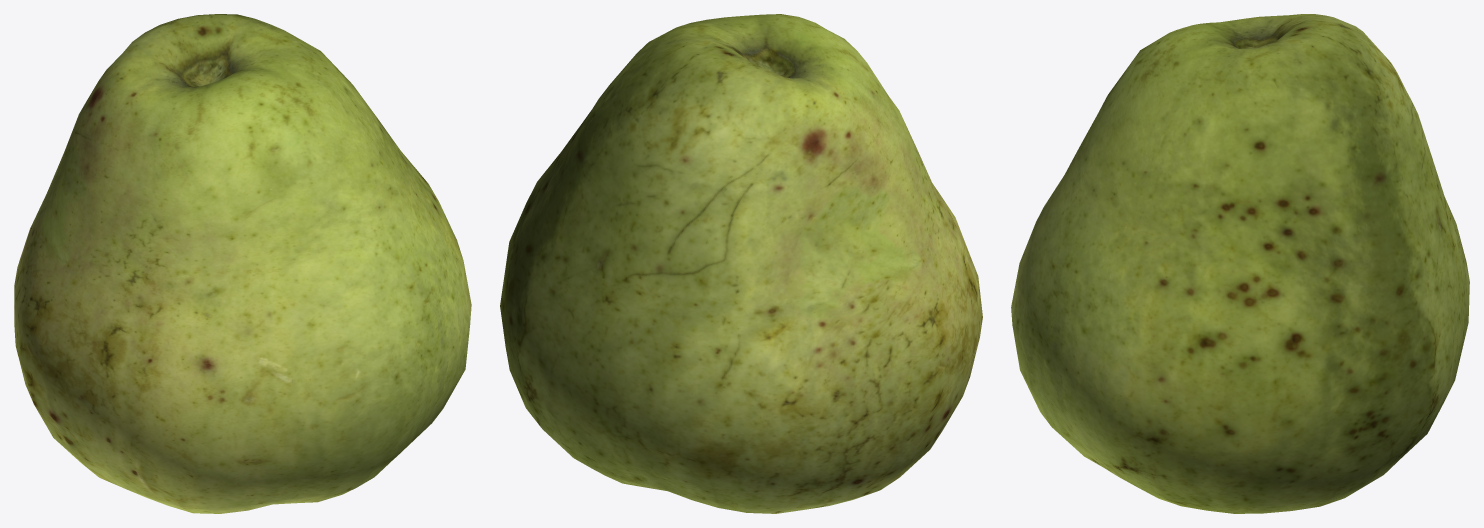
Rendered from Guava.fbx.
3 renders of one model, left to right at view 1: azimuth 30°, elevation 25°; view 2: azimuth 150°, elevation 25°; view 3: azimuth 270°, elevation 25°, orthographic. The views are drawn at different scales.
Parts seen in each view (by area): view 1: Guava; view 2: Guava; view 3: Guava.
Part boxes in pixels (box(x1,y1,x2,y2)): Guava: box(14, 14, 471, 513); Guava: box(500, 14, 982, 513); Guava: box(1011, 14, 1469, 513).
Bounding box in the file's own units: 7.04 × 7.04 × 6.73.
